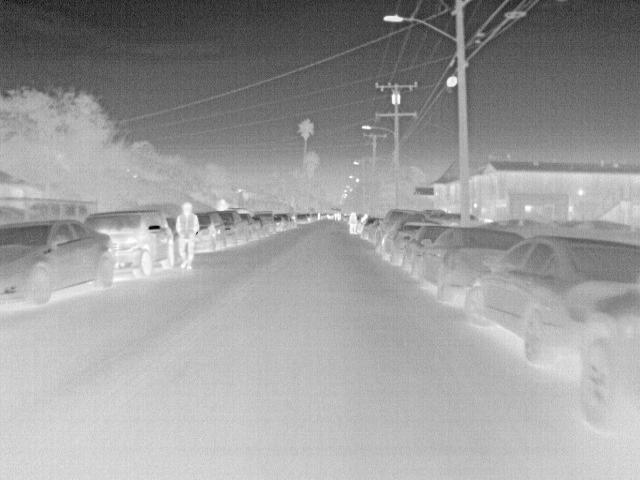car: (460, 238, 639, 366), (3, 219, 120, 310), (576, 290, 638, 442), (411, 224, 525, 305), (84, 208, 176, 281), (402, 221, 456, 274), (381, 219, 427, 265), (372, 209, 423, 249), (196, 212, 228, 251), (218, 209, 253, 244), (254, 211, 275, 236), (273, 214, 288, 232), (285, 214, 298, 228), (293, 213, 308, 225)
person: (175, 202, 201, 272), (348, 212, 362, 233)
